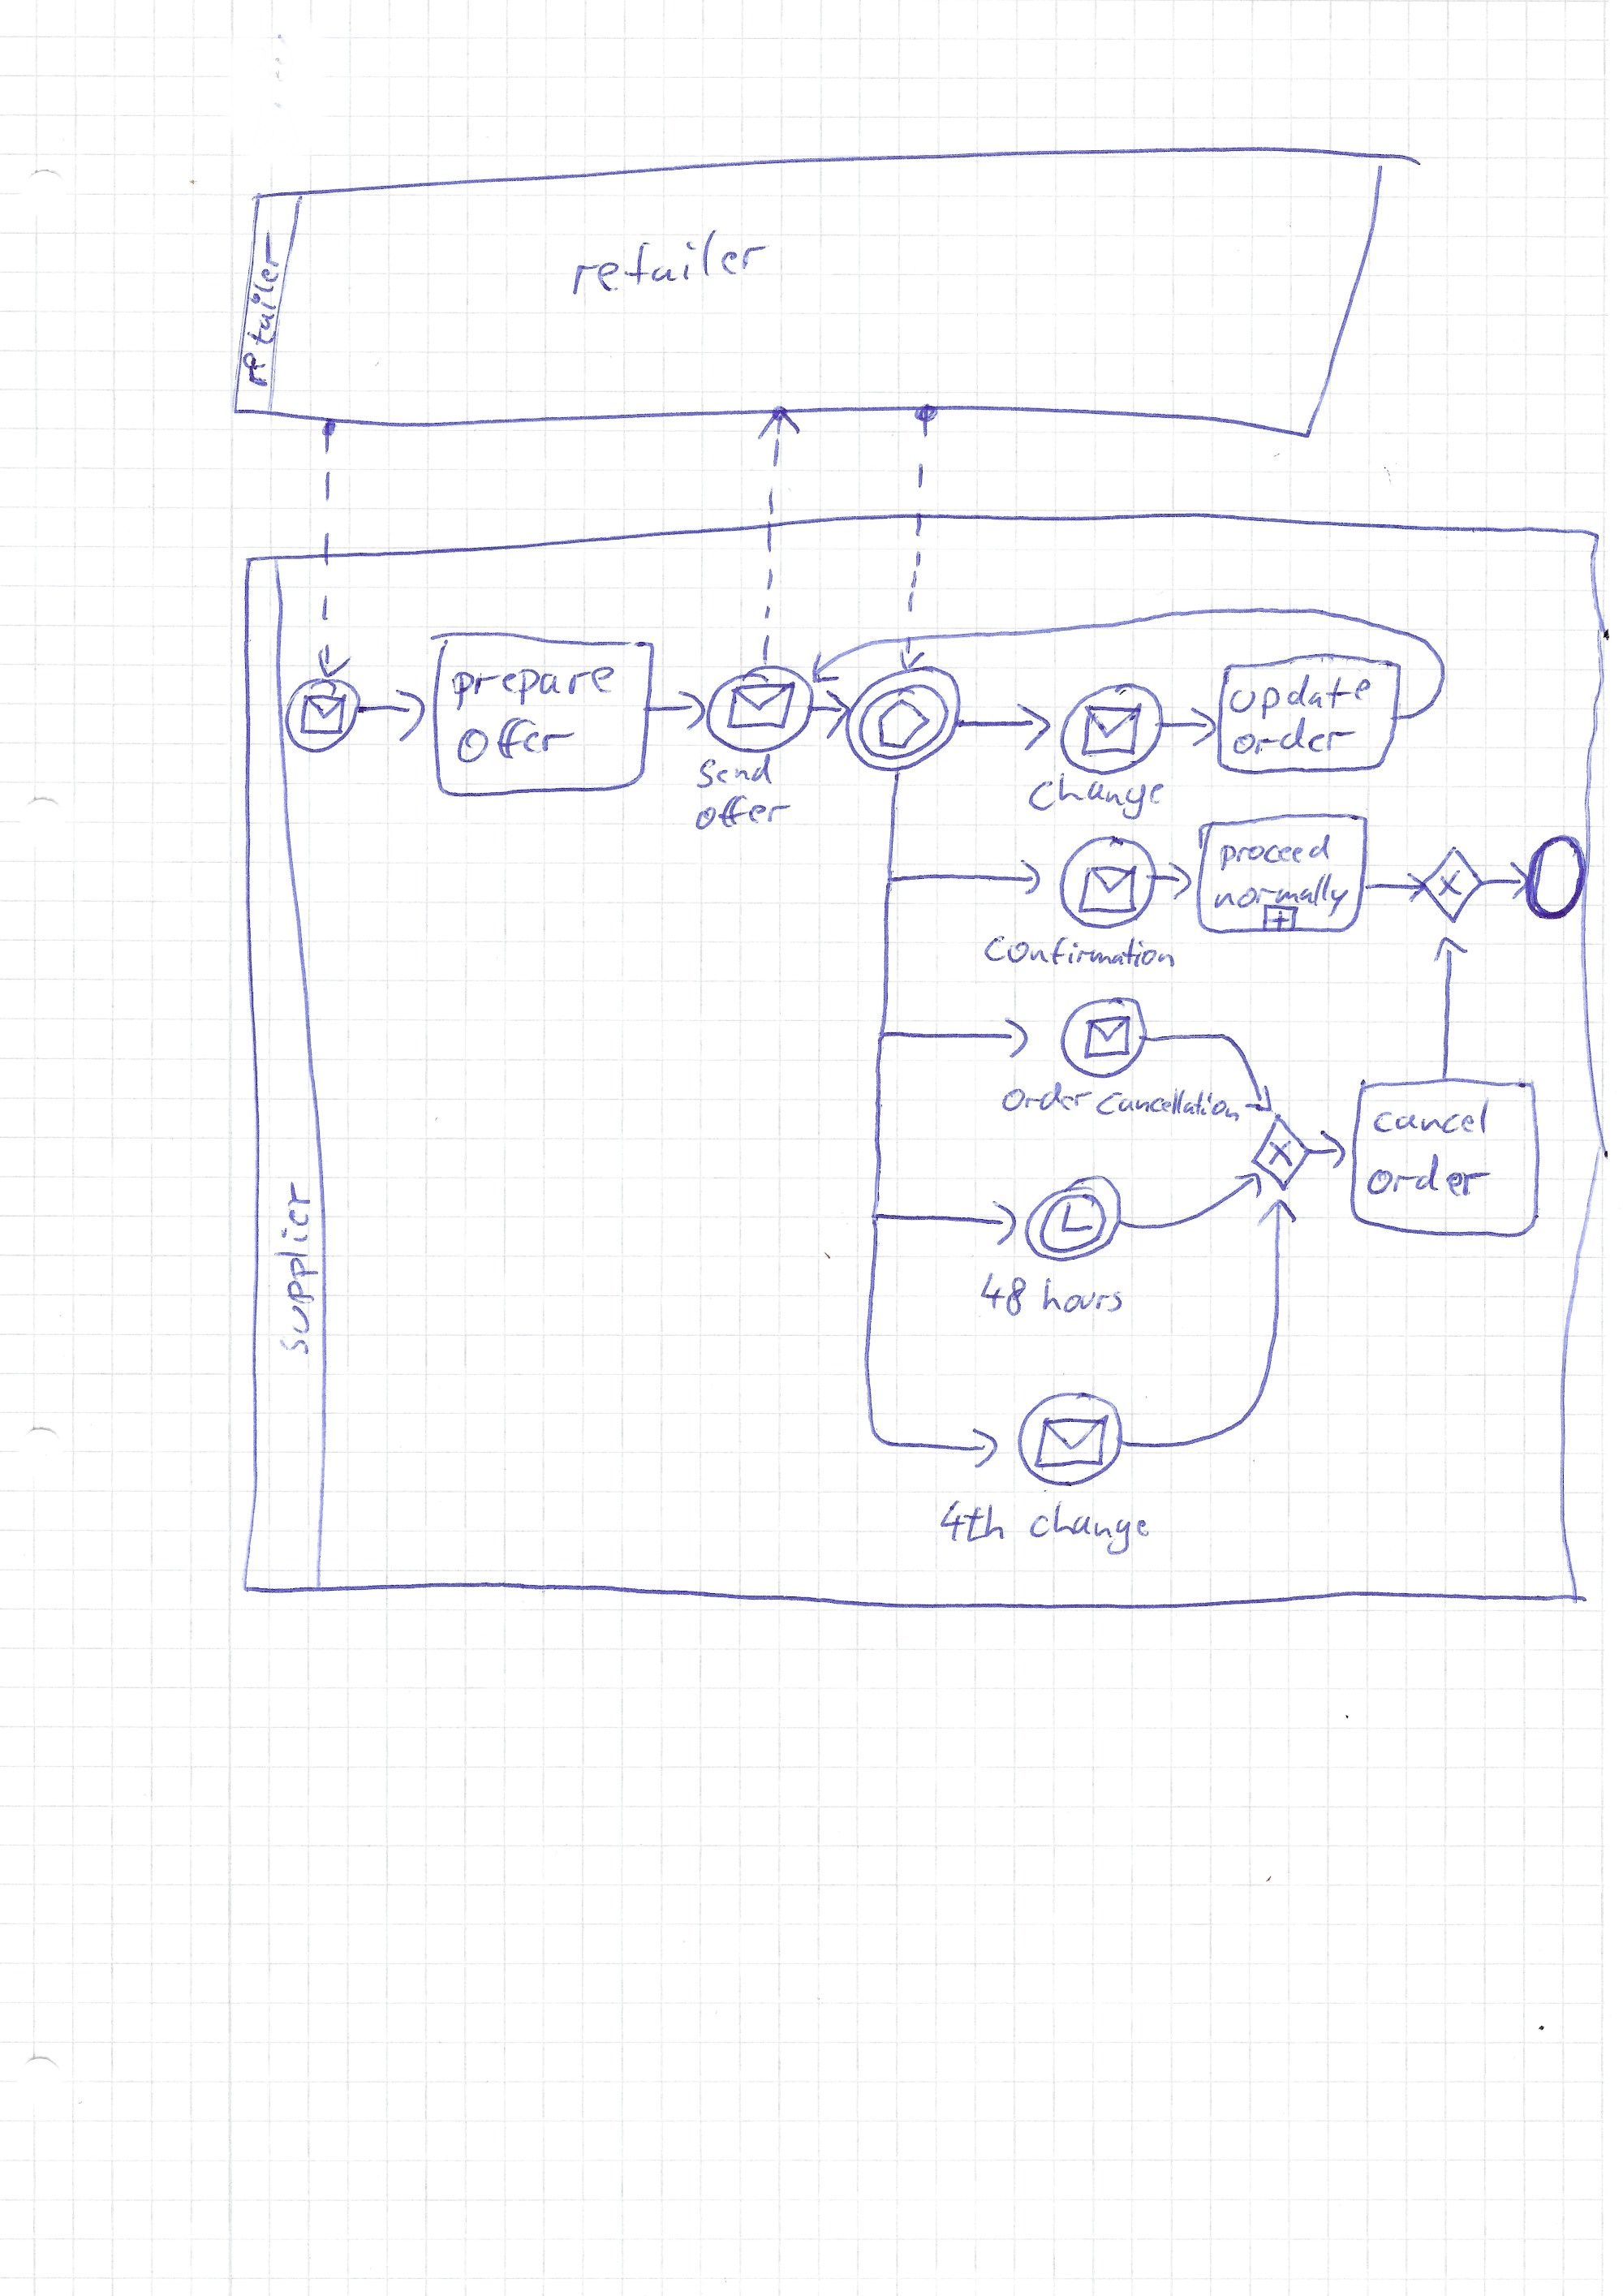48: (978, 1268, 1031, 1323)
4th: (922, 1498, 1033, 1548)
Confirmation: (982, 931, 1177, 971)
Offer: (446, 715, 581, 764)
Send: (683, 754, 789, 794)
cancel: (1374, 1101, 1488, 1142)
cancellation: (1107, 1086, 1230, 1123)
change: (1029, 1493, 1159, 1548), (1036, 780, 1163, 817)
hours: (1038, 1272, 1121, 1321)
normally: (1200, 877, 1349, 908)
offer: (683, 792, 806, 834)
order: (1242, 720, 1347, 761), (1367, 1161, 1486, 1196), (996, 1082, 1098, 1112)
prepare: (448, 662, 620, 703)
proceed: (1210, 834, 1340, 873)
retailer: (564, 227, 769, 304), (248, 223, 279, 393)
supplier: (267, 1184, 321, 1354)
update: (1240, 675, 1374, 715)
